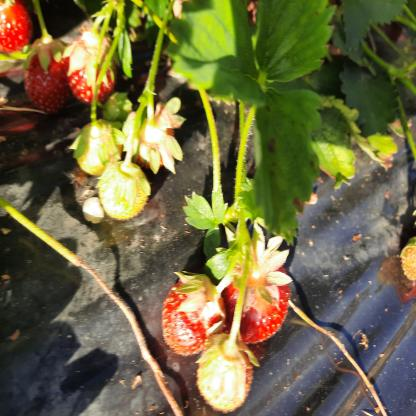ripe: (224, 265, 282, 338), (159, 282, 217, 351), (24, 46, 72, 105), (68, 41, 116, 99)
unripe: (198, 342, 250, 410), (131, 110, 173, 169), (103, 163, 143, 218), (76, 128, 114, 170)
